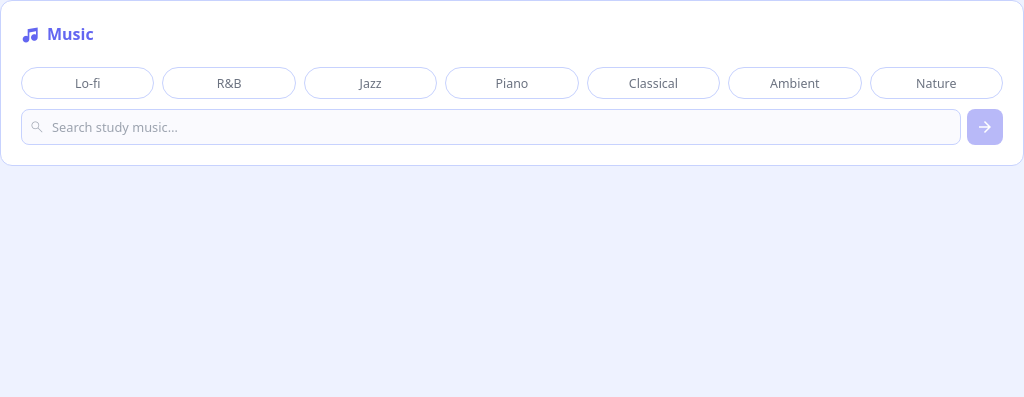
Test: StudyVibeMusic › caching › serves mood results from localStorage cache without fetching
Click the button "Lo-fi".
click(88, 83)  # box [21,67,154,99]
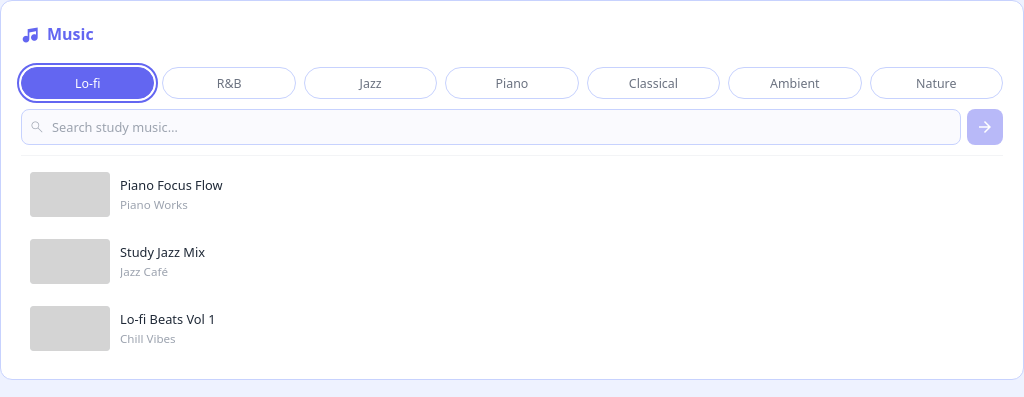
Check: the list named "Music results" is shown, box [21,164,1003,359]
